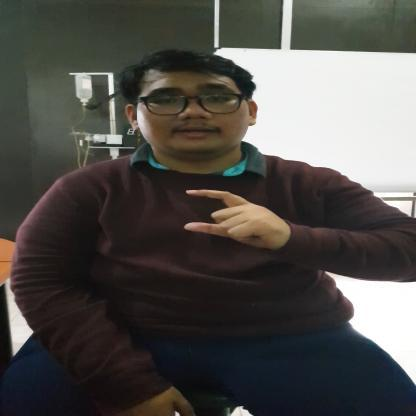C: (182, 188, 290, 246)
